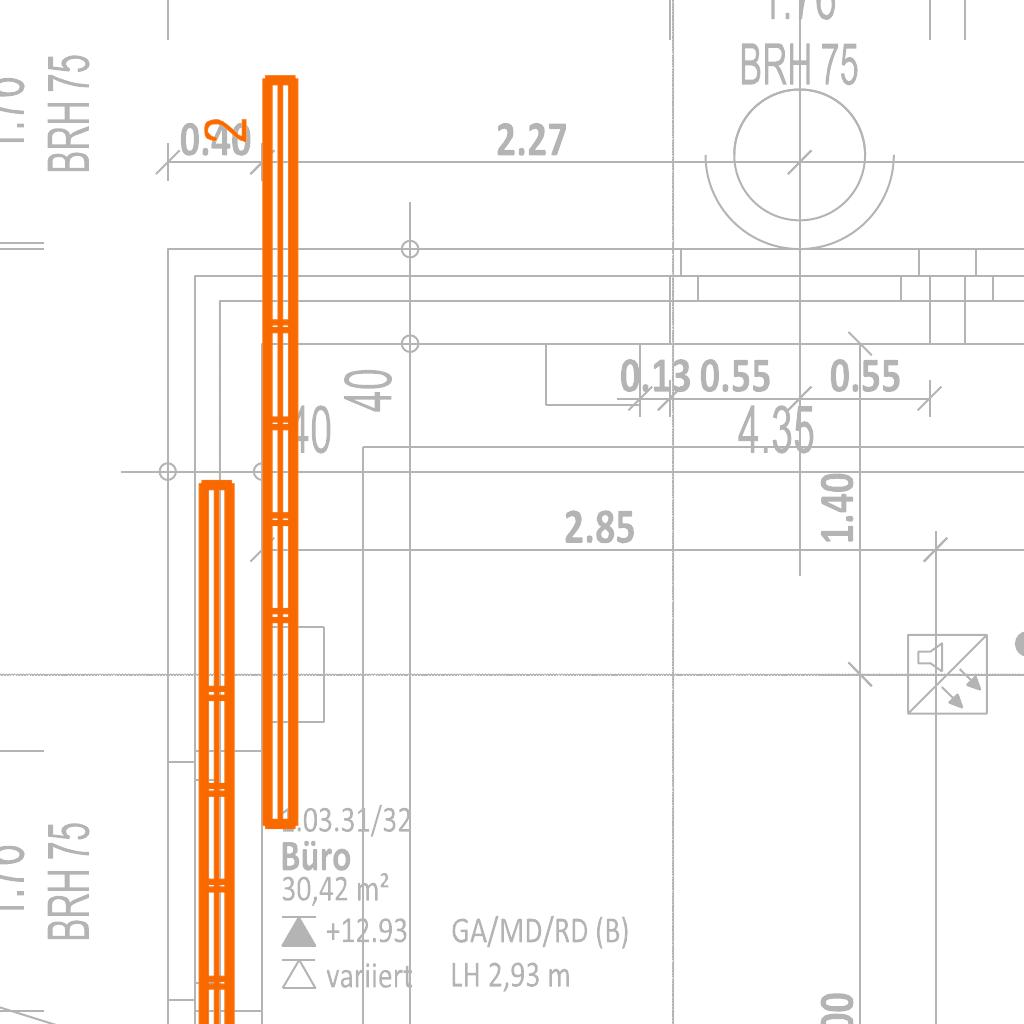Ambulanz_Pendelleuchte_LED: (199, 66, 311, 840), (186, 469, 298, 1024)
